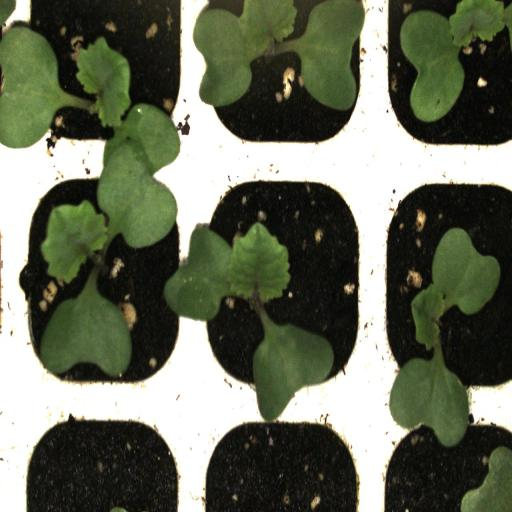Folha: (163, 221, 291, 322), (39, 275, 132, 378), (253, 315, 334, 423), (460, 446, 512, 512)
Germinacao: (12, 163, 192, 402), (192, 164, 371, 404), (371, 170, 512, 408), (193, 1, 373, 164), (15, 1, 193, 165), (375, 1, 512, 161)
